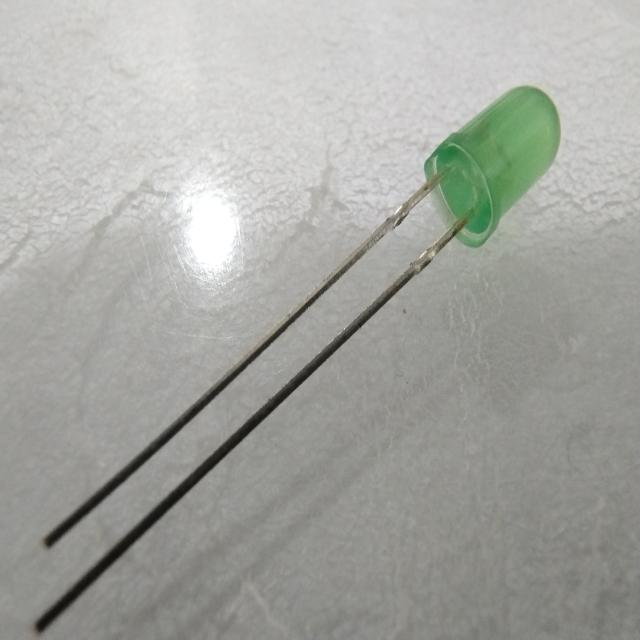green_led: (415, 75, 569, 266)
